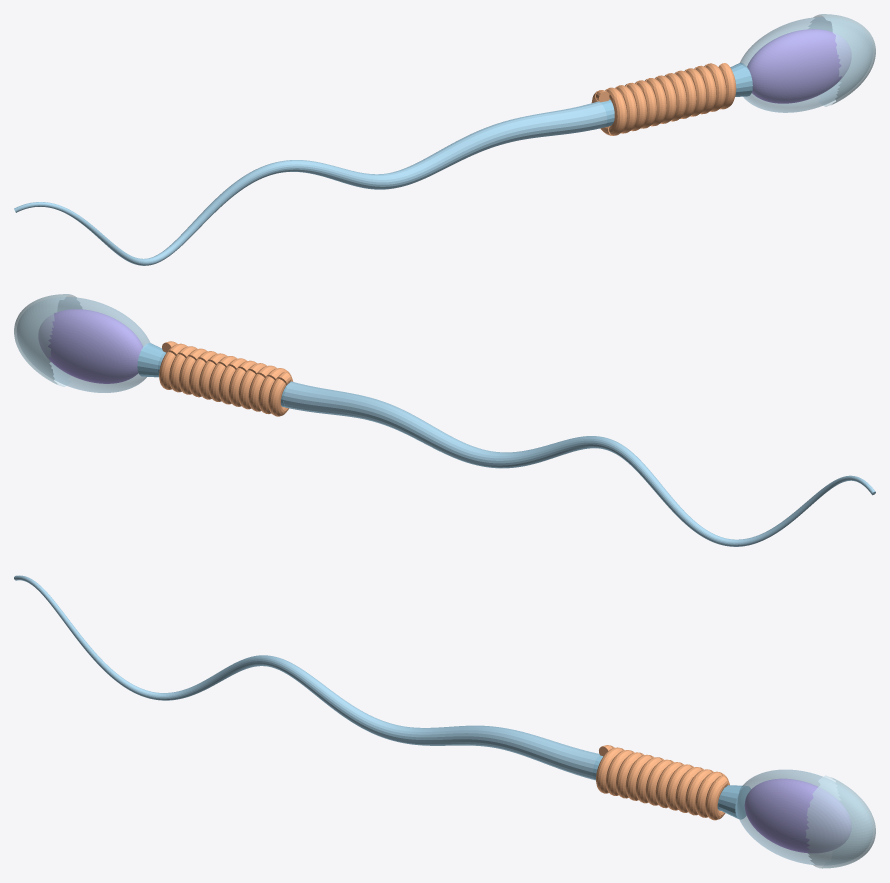
Rendered from sel_sperma_3d.glb.
The picture shows the model from 3 angles, top to bottom: view 1: azimuth 30°, elevation 25°; view 2: azimuth 150°, elevation 25°; view 3: azimuth 330°, elevation 25°; orthographic projection.
Parts seen in each view (by area): view 1: Kepala_membran, Ekor, Mitokondria, Nukleus, Akrosom, Bagian_tengah; view 2: Kepala_membran, Ekor, Mitokondria, Nukleus, Akrosom, Bagian_tengah; view 3: Kepala_membran, Ekor, Mitokondria, Nukleus, Akrosom, Bagian_tengah.
Boxes of the visible parts, left/top/right/bottom form: Kepala_membran: left=740, top=17, right=872, bottom=112; Ekor: left=14, top=101, right=606, bottom=265; Mitokondria: left=591, top=63, right=736, bottom=135; Nukleus: left=747, top=29, right=851, bottom=103; Akrosom: left=809, top=14, right=875, bottom=106; Bagian_tengah: left=598, top=63, right=752, bottom=127; Kepala_membran: left=17, top=297, right=150, bottom=392; Ekor: left=283, top=382, right=875, bottom=546; Mitokondria: left=159, top=341, right=293, bottom=416; Nukleus: left=38, top=309, right=142, bottom=383; Akrosom: left=14, top=294, right=81, bottom=386; Bagian_tengah: left=137, top=343, right=292, bottom=407; Kepala_membran: left=737, top=769, right=872, bottom=865; Ekor: left=14, top=575, right=599, bottom=779; Mitokondria: left=596, top=745, right=729, bottom=820; Nukleus: left=744, top=778, right=851, bottom=852; Akrosom: left=805, top=775, right=875, bottom=868; Bagian_tengah: left=593, top=755, right=750, bottom=819.
Size of the model in its own units: 20.59 by 2.23 by 1.37.
